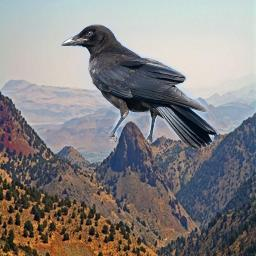Crow: (61, 24, 218, 149)
